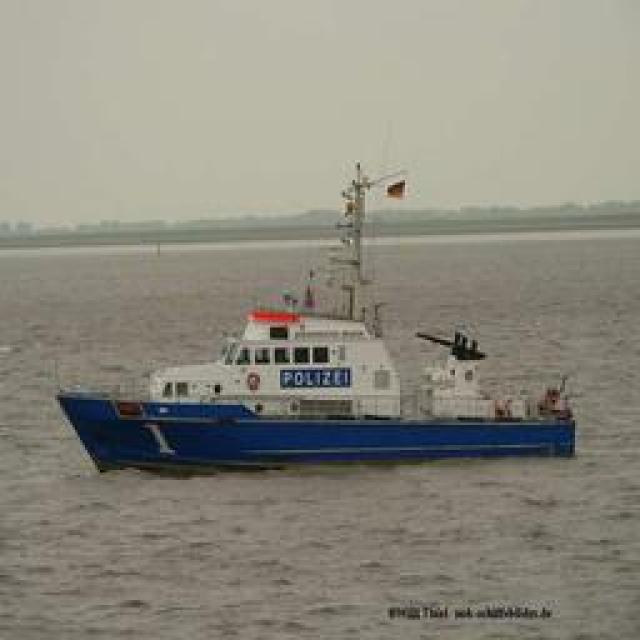CIV_Ship: (47, 264, 585, 472)
